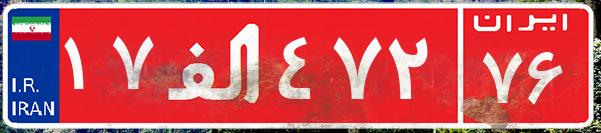1: (57, 26, 110, 107)
2: (385, 28, 445, 110)
4: (273, 28, 330, 110)
6: (525, 38, 570, 115)
7: (330, 28, 385, 110), (475, 38, 525, 113), (110, 28, 158, 105)
الف: (158, 15, 273, 115)
